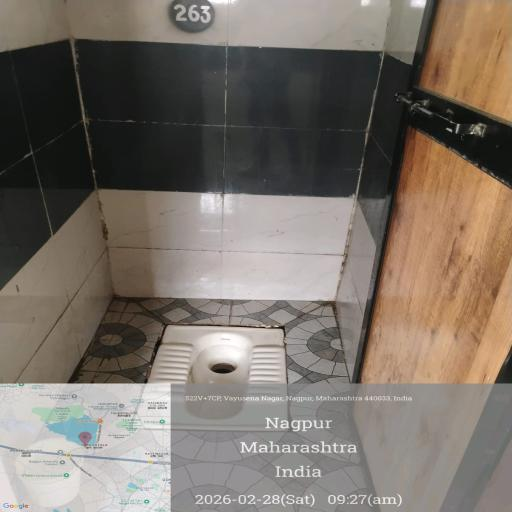clean_floor: (24, 19, 394, 303), (75, 397, 395, 512)
clean_indian: (140, 326, 294, 435)
